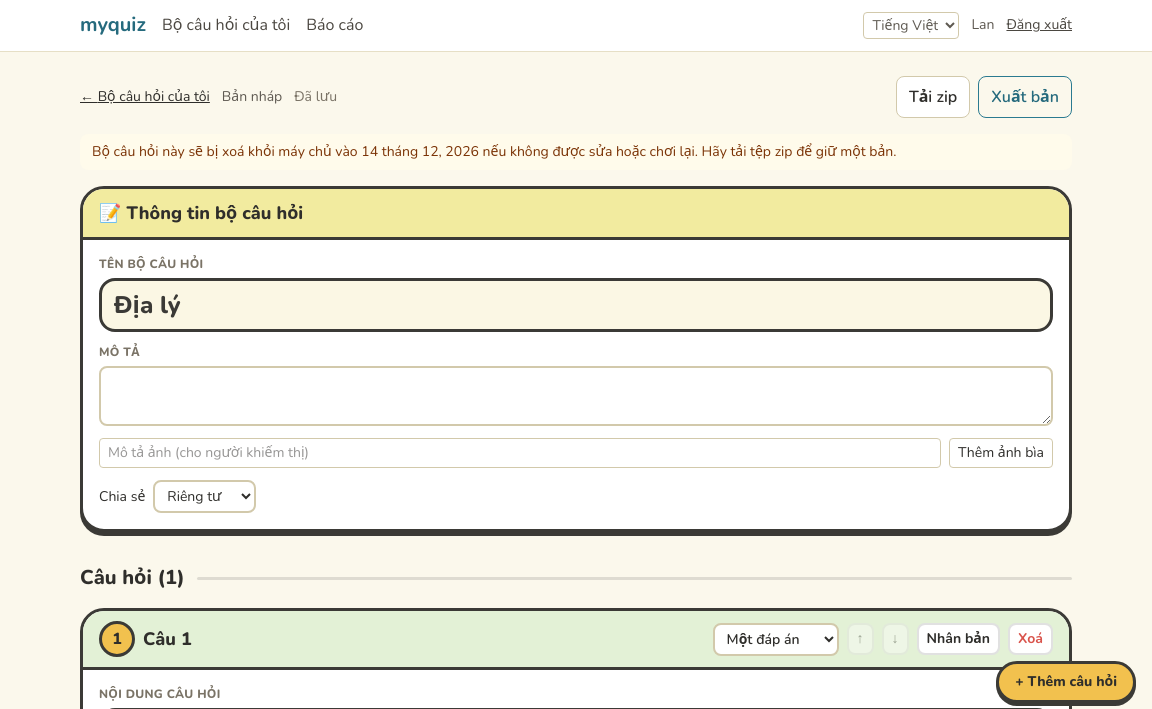
Test: switching a question to true/false gives the two fixed options
The image size is (1152, 709).
Select "Đúng/Sai" in the dropdown named "Loại câu hỏi": (776, 639) [713, 622, 839, 656]
(page scrolled)
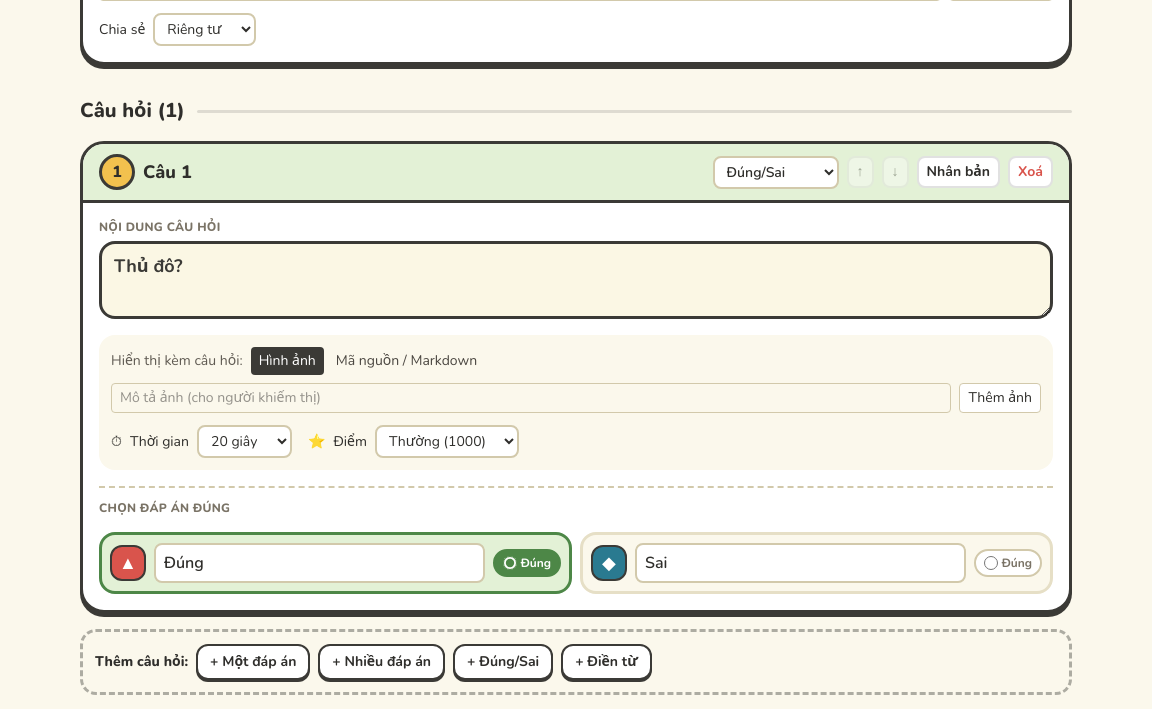
Result: the field named "Lựa chọn 1" holds "Đúng" at [154, 543, 485, 583]
Result: the field named "Lựa chọn 2" holds "Sai" at [635, 543, 966, 583]
